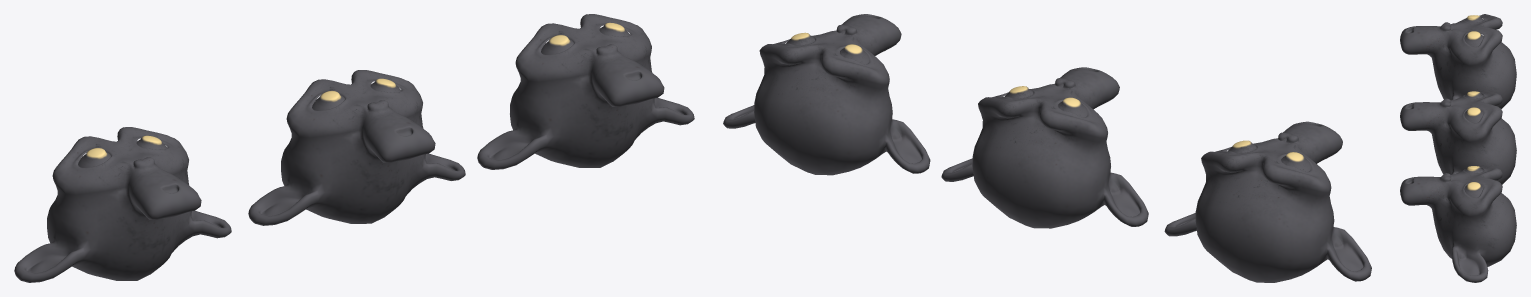
Rendered from suzanne.glb.
3 renders of one model, left to right at view 1: azimuth 30°, elevation 25°; view 2: azimuth 150°, elevation 25°; view 3: azimuth 270°, elevation 25°, orthographic. The views are drawn at different scales.
Parts seen in each view (by area): view 1: Suzanne, Suzanne.001, Suzanne.002; view 2: Suzanne.002, Suzanne, Suzanne.001; view 3: Suzanne.001, Suzanne.002, Suzanne.
Part boxes in pixels (x1=…): Suzanne: x1=248, y1=70, x2=465, y2=225; Suzanne.001: x1=477, y1=14, x2=694, y2=169; Suzanne.002: x1=14, y1=127, x2=231, y2=282; Suzanne.002: x1=1164, y1=121, x2=1371, y2=282; Suzanne: x1=941, y1=67, x2=1148, y2=228; Suzanne.001: x1=723, y1=14, x2=930, y2=175; Suzanne.001: x1=1400, y1=165, x2=1516, y2=282; Suzanne.002: x1=1400, y1=14, x2=1516, y2=111; Suzanne: x1=1400, y1=90, x2=1516, y2=186.
Size of the model in its own units: 8.56 by 1.63 by 1.92.
Materials: 2 (2 with a texture image).
